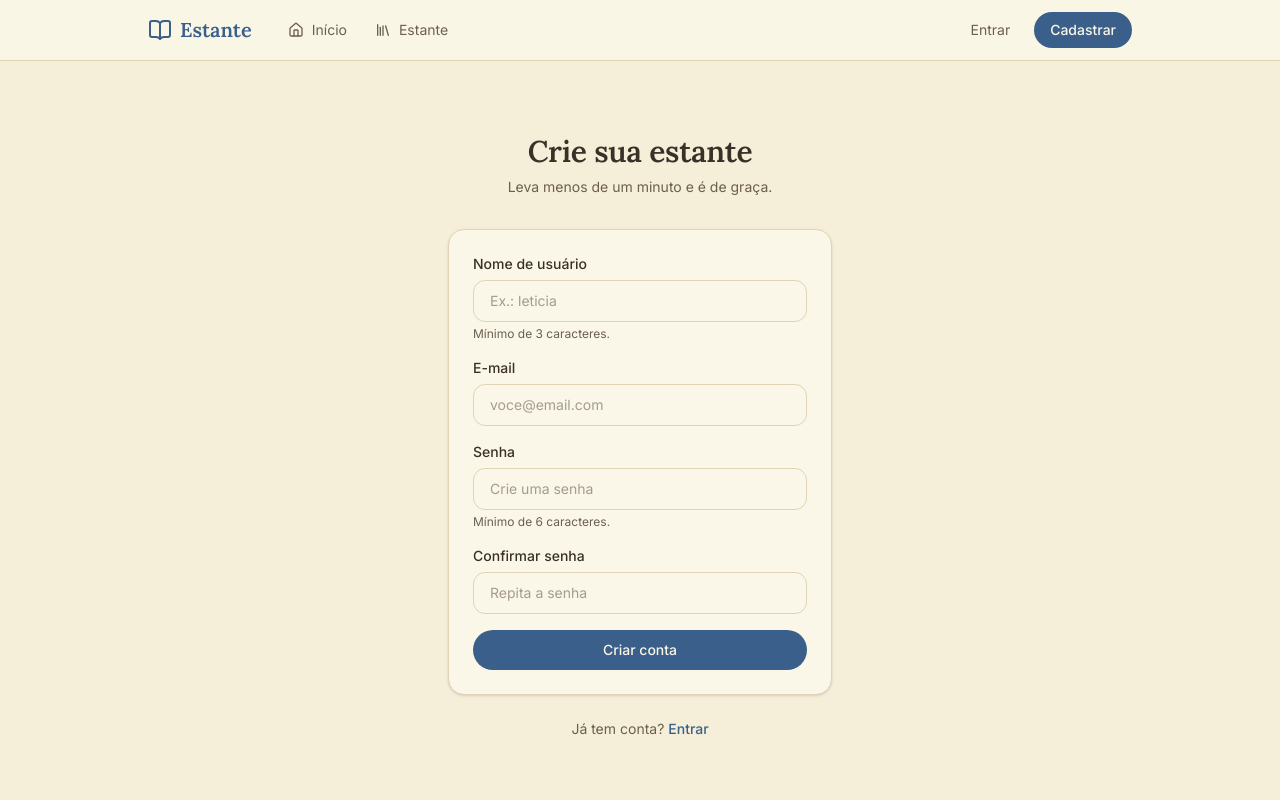
validação do cadastro › avisa quando usuário e senha são curtos demais
Type "ab" into the field labelled "Nome de usuário".
click(640, 301); type("ab")  # box x1=473 y1=280 x2=807 y2=322
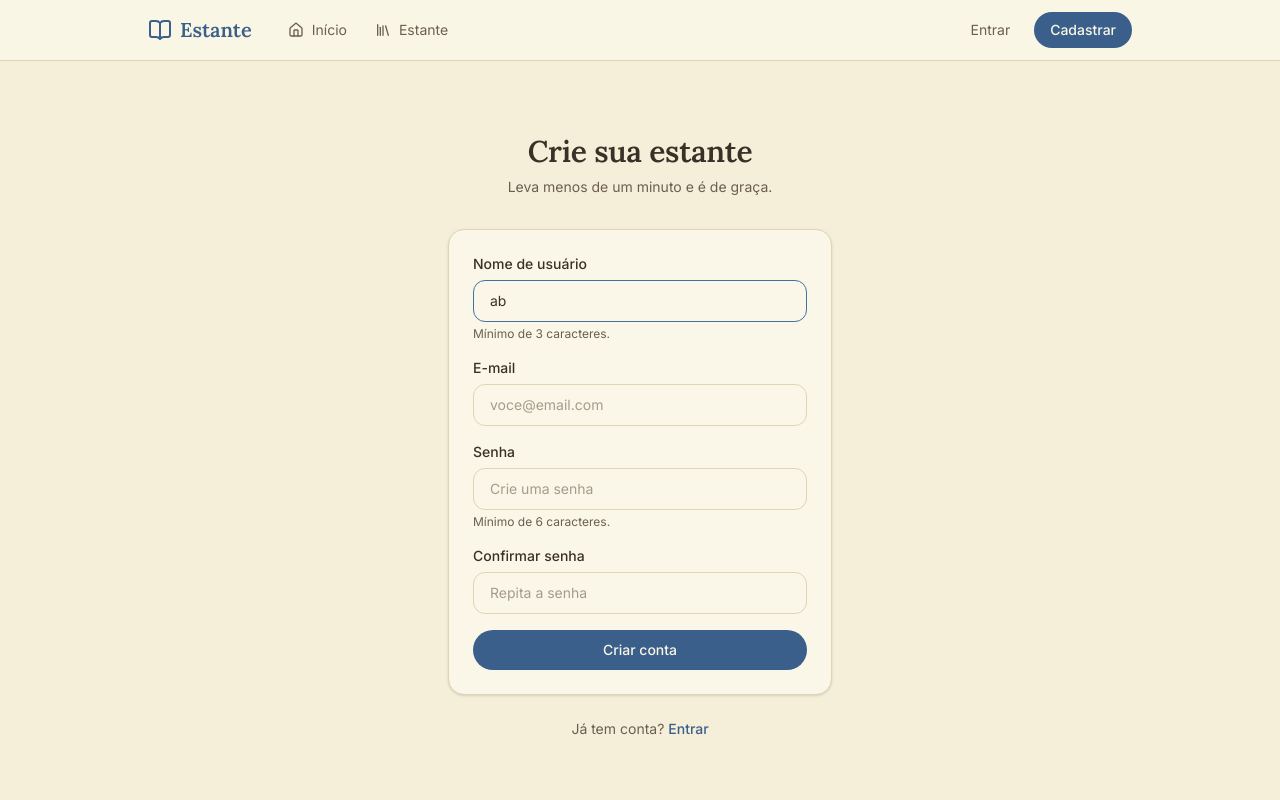
Type "ana@example.com" into the field labelled "E-mail".
click(640, 405); type("ana@example.com")  # box x1=473 y1=384 x2=807 y2=426
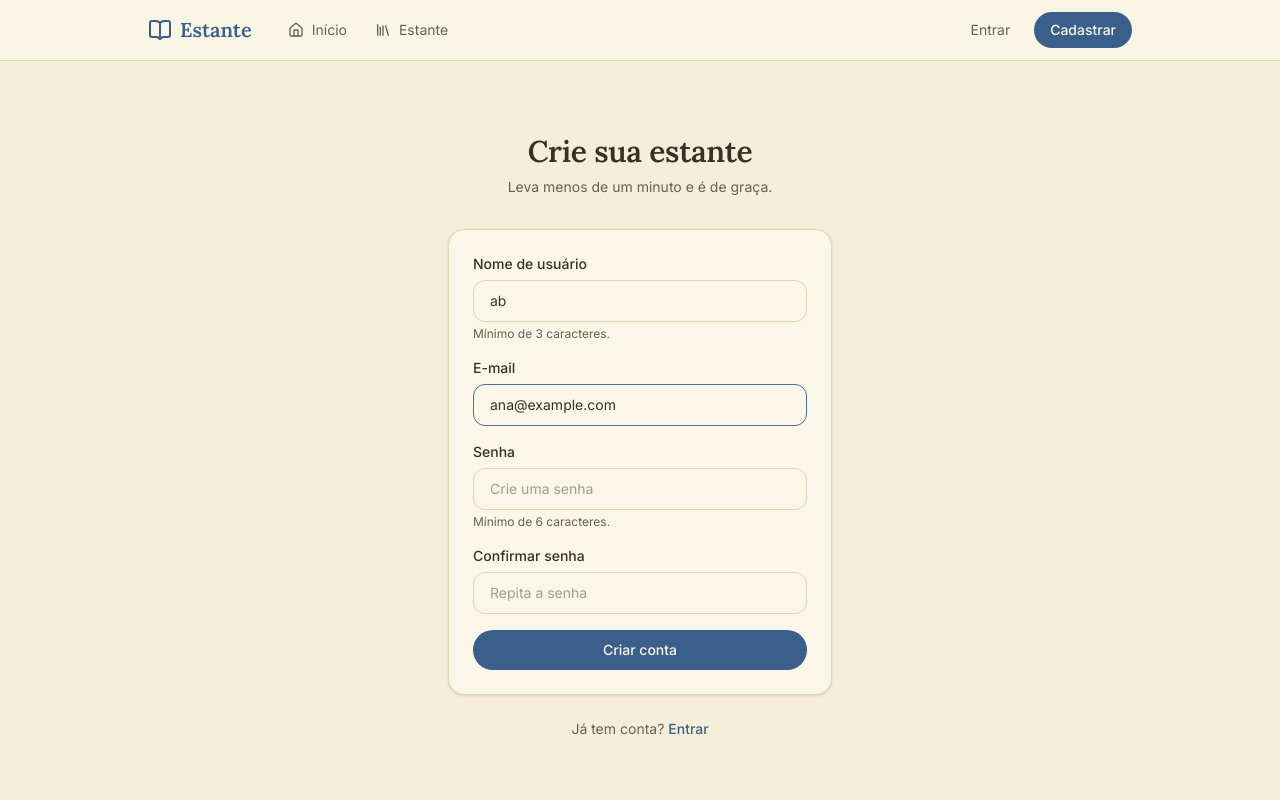
Type "123" into the password field labelled "Senha".
click(640, 489); type("123")  # box x1=473 y1=468 x2=807 y2=510
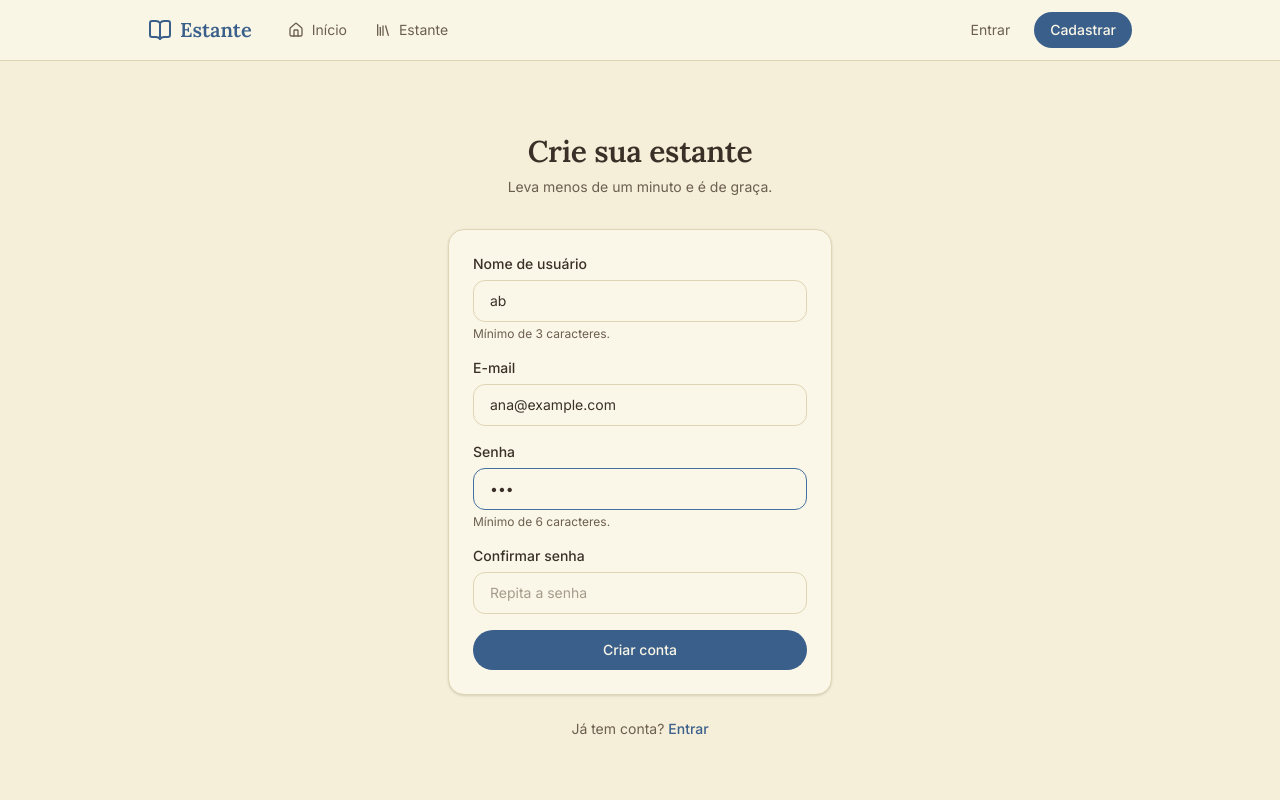
Type "123" into the password field labelled "Confirmar senha".
click(640, 593); type("123")  # box x1=473 y1=572 x2=807 y2=614
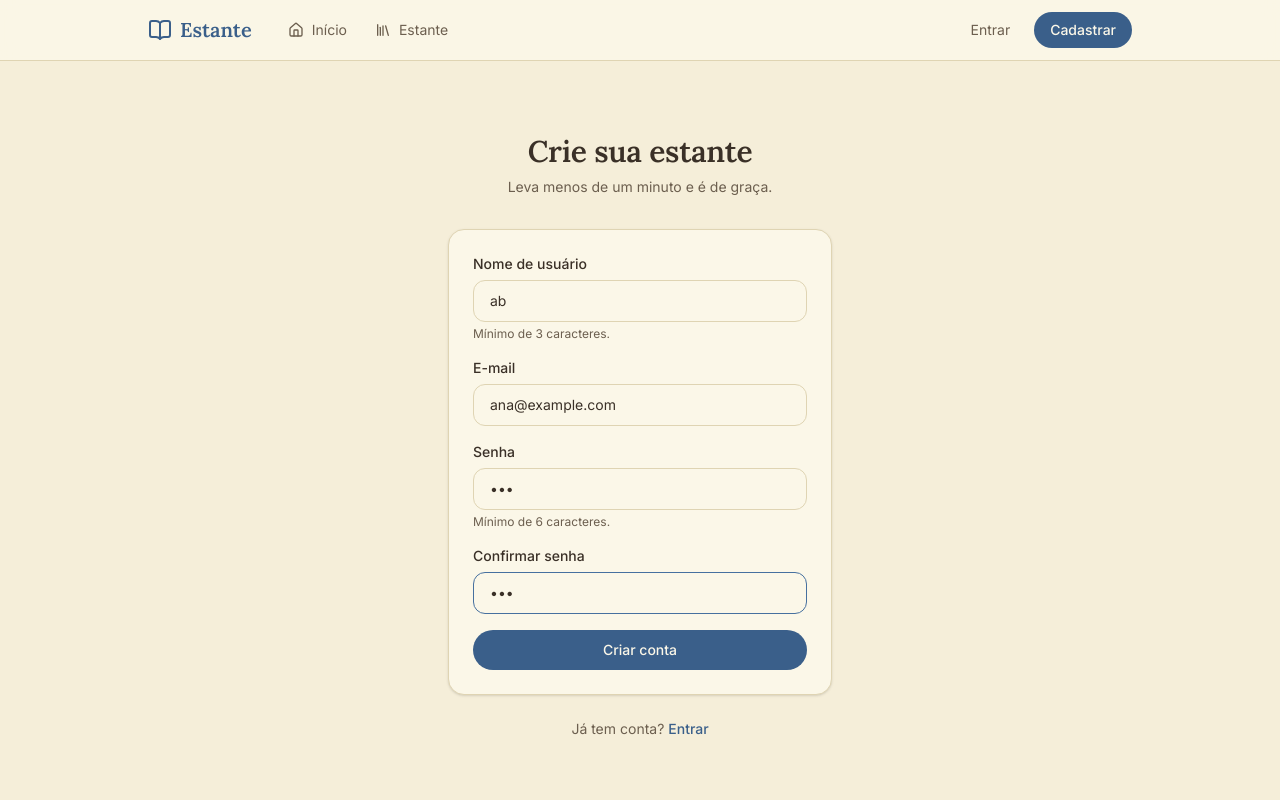
Click the button "Criar conta".
click(640, 650)  # box x1=473 y1=630 x2=807 y2=670
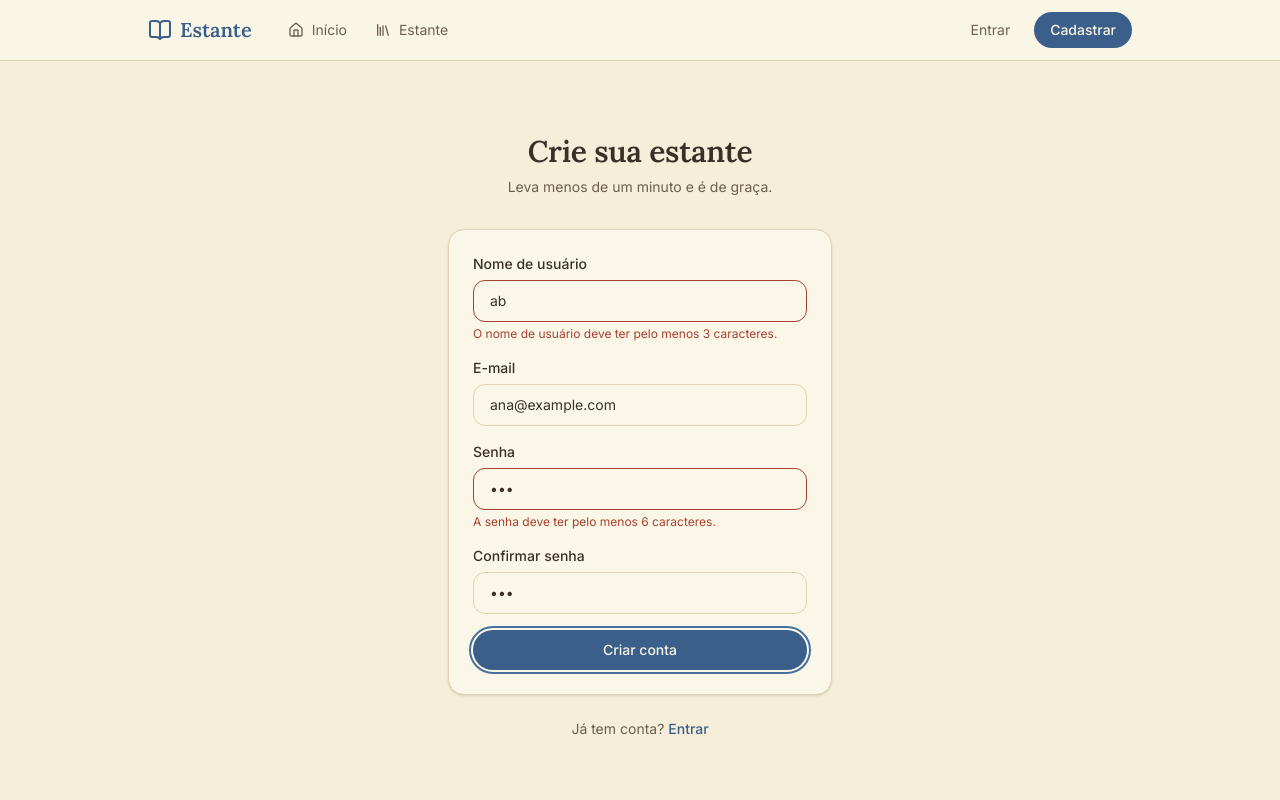
Check: the text "O nome de usuário deve ter pelo menos 3 caracteres." is shown, box x1=473 y1=326 x2=807 y2=342
Check: the text "A senha deve ter pelo menos 6 caracteres." is shown, box x1=473 y1=514 x2=716 y2=529
